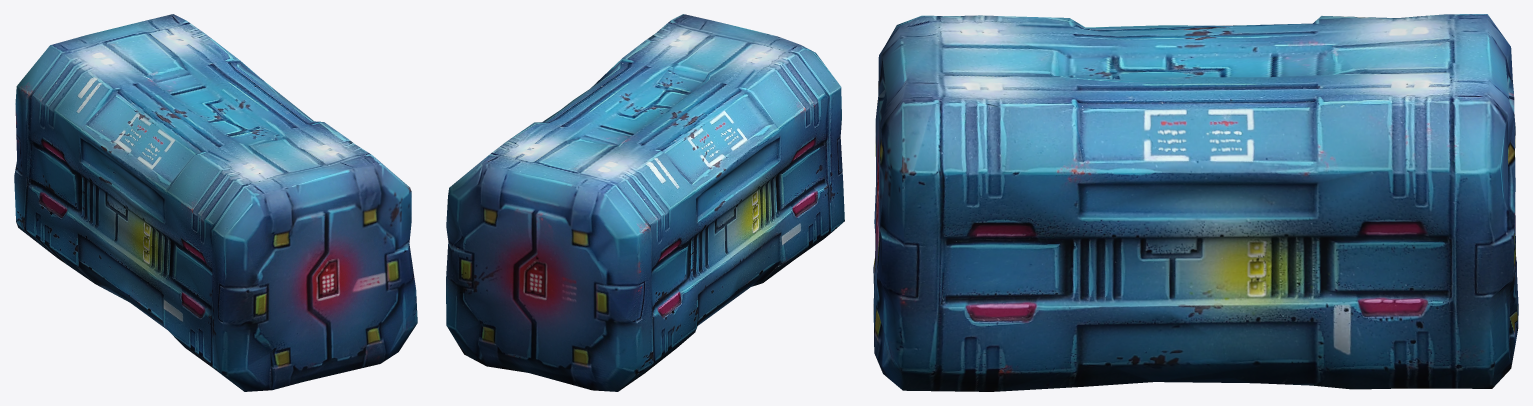
The model's file is cargo-size-2-3.glb.
The picture shows the model from 3 angles, left to right: view 1: azimuth 30°, elevation 25°; view 2: azimuth 150°, elevation 25°; view 3: azimuth 270°, elevation 25°; orthographic projection. The views are drawn at different scales.
Visible parts, largest first — view 1: Tech_container_blue; view 2: Tech_container_blue; view 3: Tech_container_blue.
Part boxes in pixels (x1,y1,x2,y2): Tech_container_blue: (14, 14, 417, 391); Tech_container_blue: (446, 14, 844, 391); Tech_container_blue: (873, 14, 1518, 391).
Size of the model in its own units: 2.41 by 2.24 by 4.67.
1 material, 1 textured.
